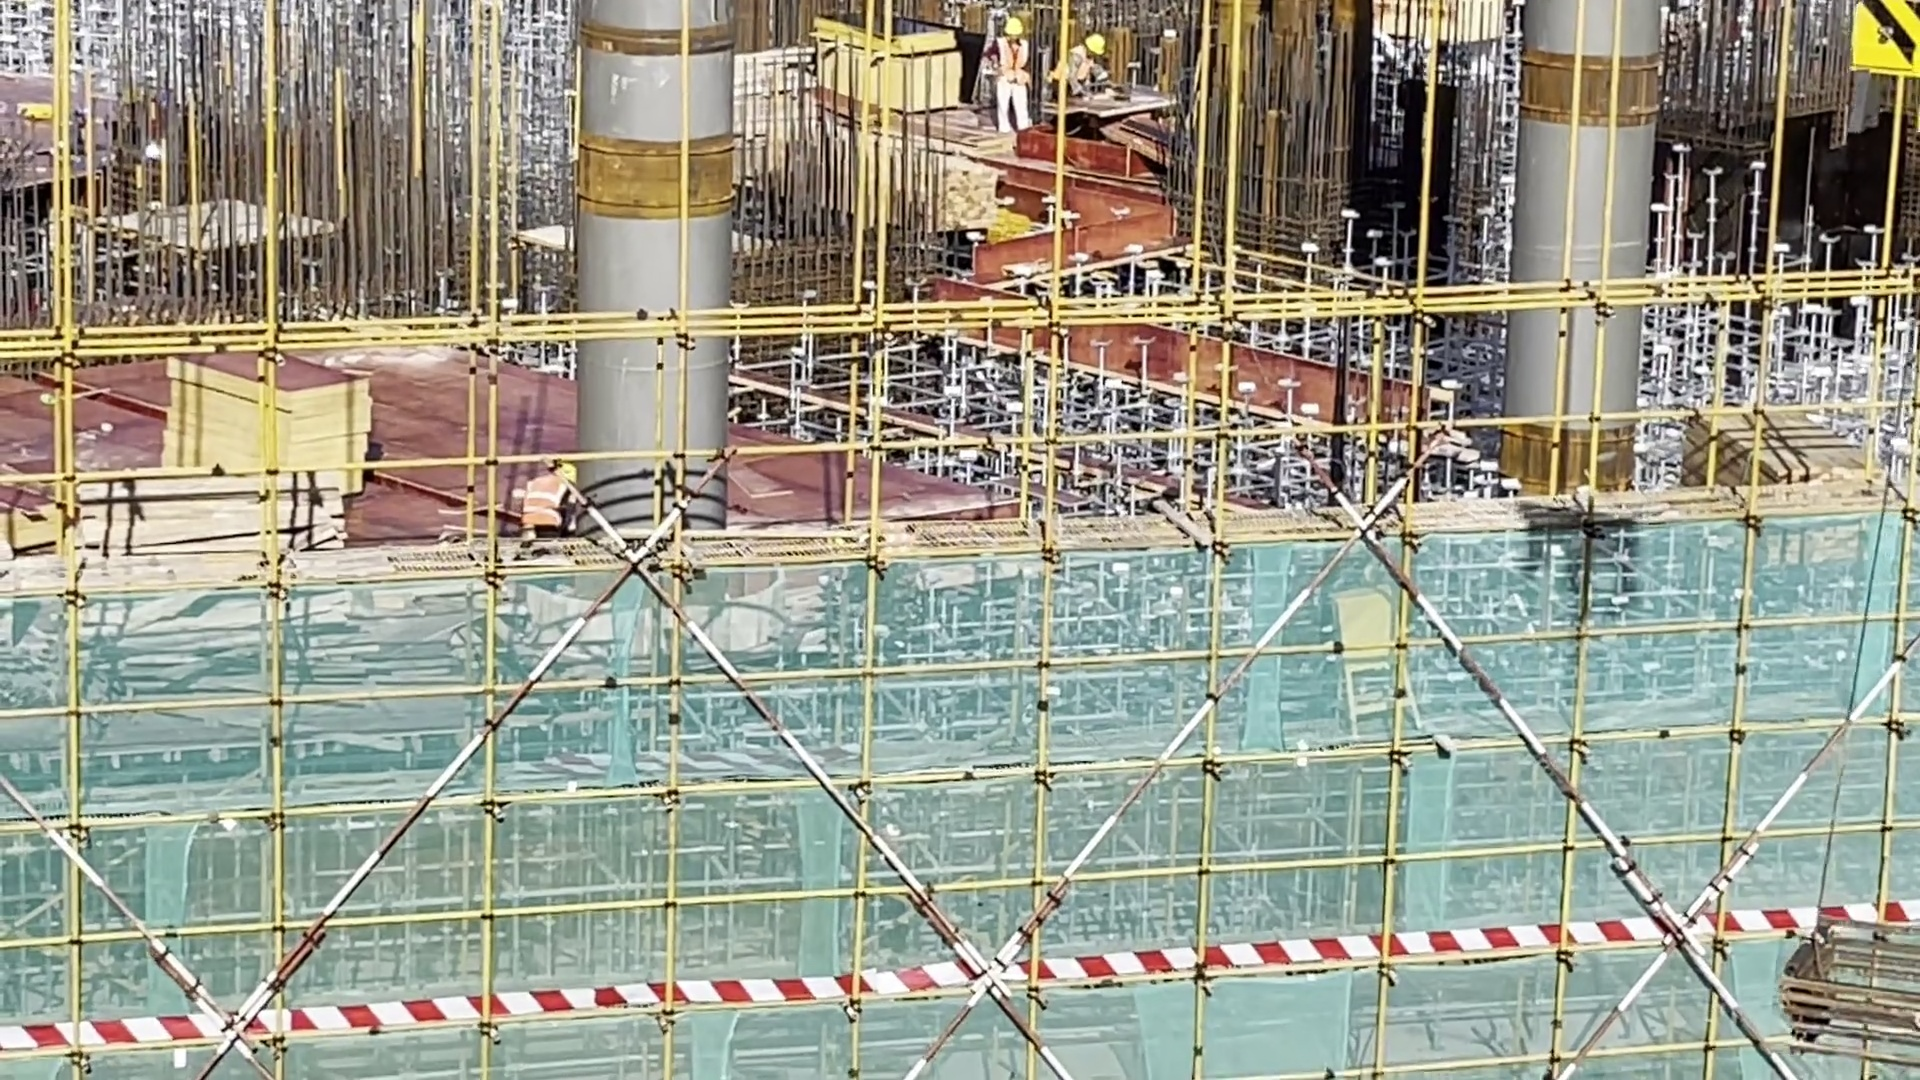board: (150, 343, 372, 524), (1666, 402, 1862, 509), (806, 12, 959, 120)
ebox: (1319, 581, 1436, 741)
helmet: (554, 455, 584, 487), (1081, 33, 1110, 63), (1002, 15, 1027, 41)
person: (511, 451, 600, 561), (993, 18, 1040, 143), (1051, 29, 1111, 105)
vest: (523, 473, 577, 541), (997, 39, 1031, 88)
wood: (77, 464, 345, 588)
